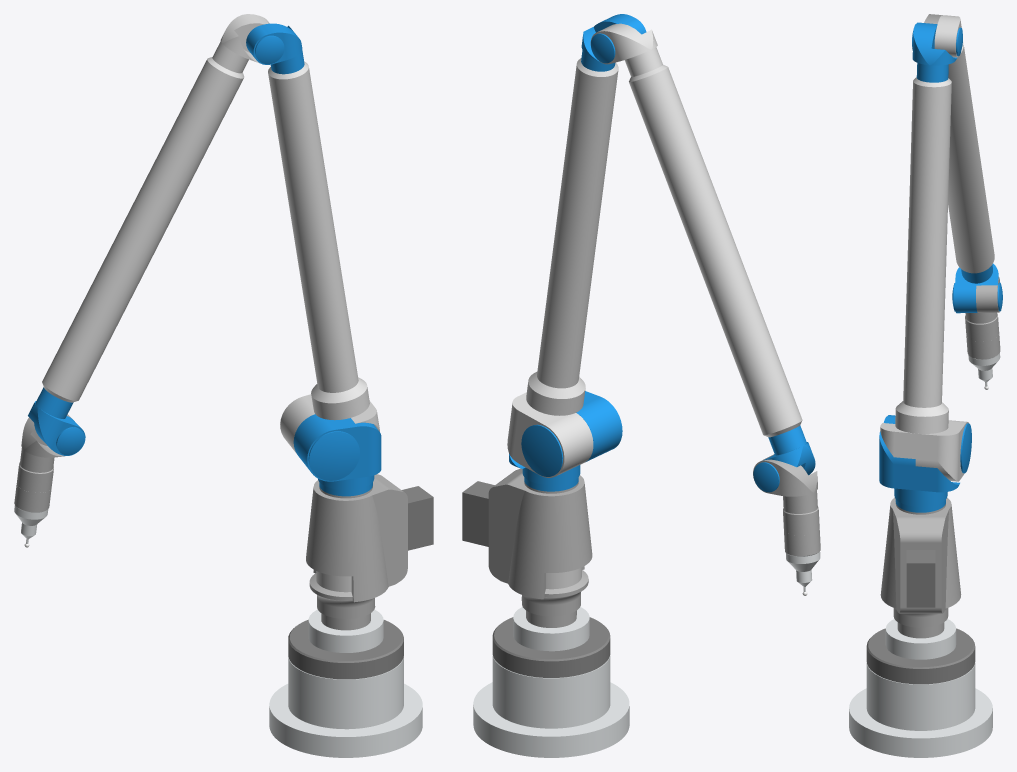
Rendered from faro arm quantum blender FBX.fbx.
The picture shows the model from 3 angles, left to right: view 1: azimuth 30°, elevation 25°; view 2: azimuth 150°, elevation 25°; view 3: azimuth 270°, elevation 25°; orthographic projection. The views are drawn at different scales.
Parts seen in each view (by area): view 1: Body1.005, Body1.003, Body1.001, Body1, Body1.002, Body1.006, Body1.004, Body1.007, Body1.008; view 2: Body1.003, Body1.005, Body1.001, Body1, Body1.007, Body1.002, Body1.006, Body1.004, Body1.008, Body1.009; view 3: Body1.003, Body1, Body1.001, Body1.005, Body1.002, Body1.004, Body1.007, Body1.006, Body1.008, Body1.009.
Part boxes in pixels (box(x1,y1,x2,y2)): Body1.005: box(42, 14, 269, 402); Body1.003: box(268, 61, 379, 453); Body1.001: box(306, 474, 433, 652); Body1: box(269, 619, 422, 757); Body1.002: box(293, 414, 381, 496); Body1.006: box(28, 387, 85, 455); Body1.004: box(246, 23, 304, 74); Body1.007: box(16, 414, 71, 492); Body1.008: box(14, 484, 51, 512); Body1.003: box(507, 58, 618, 477); Body1.005: box(590, 23, 802, 437); Body1.001: box(462, 468, 592, 651); Body1: box(473, 617, 629, 757); Body1.007: box(753, 454, 819, 535); Body1.002: box(509, 391, 622, 491); Body1.006: box(763, 425, 815, 475); Body1.004: box(581, 14, 646, 71); Body1.008: box(784, 529, 820, 556); Body1.009: box(786, 551, 820, 595); Body1.003: box(880, 77, 971, 481); Body1: box(849, 628, 992, 757); Body1.001: box(880, 497, 961, 659); Body1.005: box(924, 14, 994, 273); Body1.002: box(879, 415, 959, 512); Body1.004: box(912, 22, 957, 82); Body1.007: box(965, 277, 1002, 341); Body1.006: box(952, 263, 998, 313); Body1.008: box(966, 334, 1000, 359); Body1.009: box(968, 353, 1000, 389).
Bounding box in the file's own units: 56.57 × 103 × 21.4.
